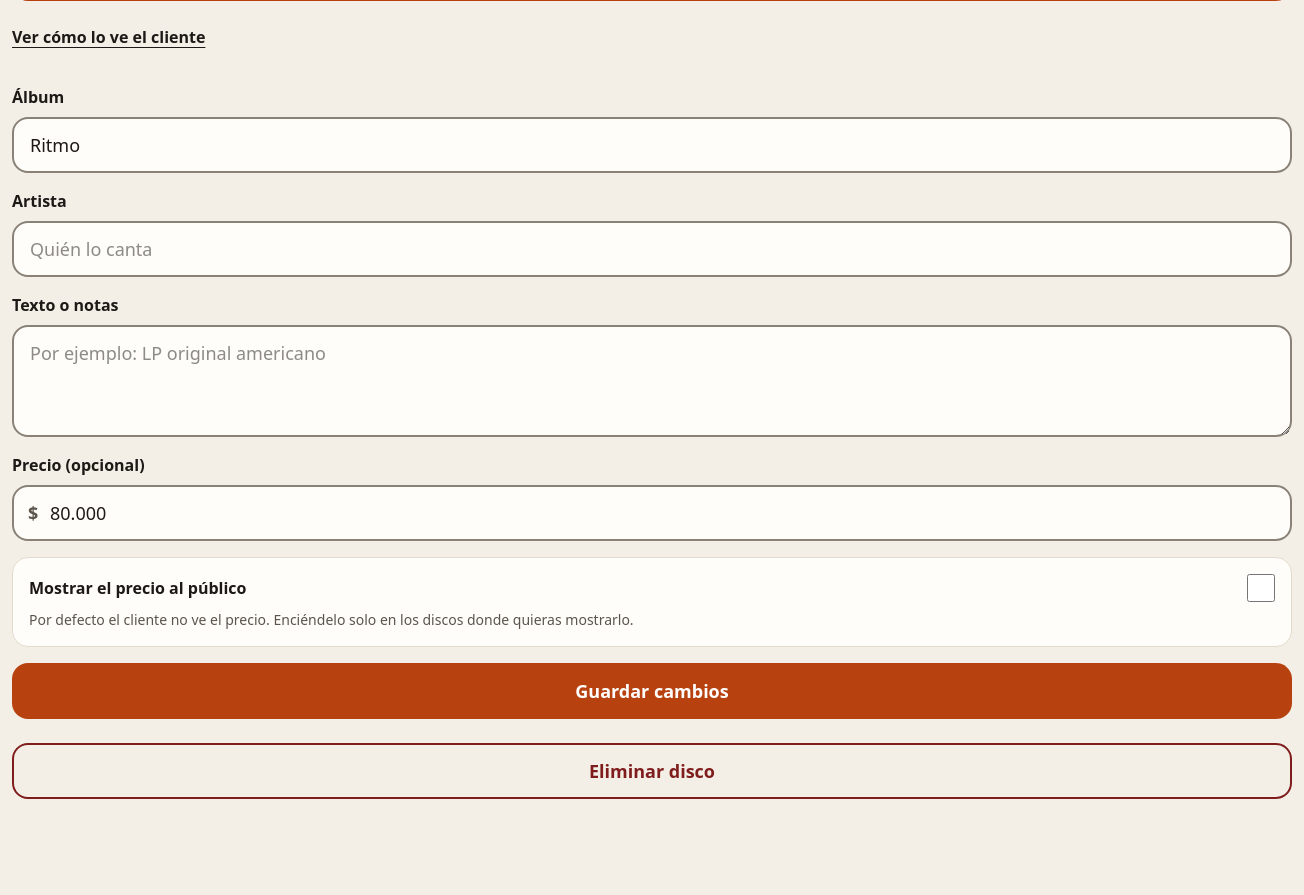
Test: RecordDetail › shows the saved price grouped and keeps grouping as it is edited
(page scrolled)
Replace the text in the field labelled "Precio (opcional)" with "1200000" at x=652, y=513, box [12, 485, 1292, 541]
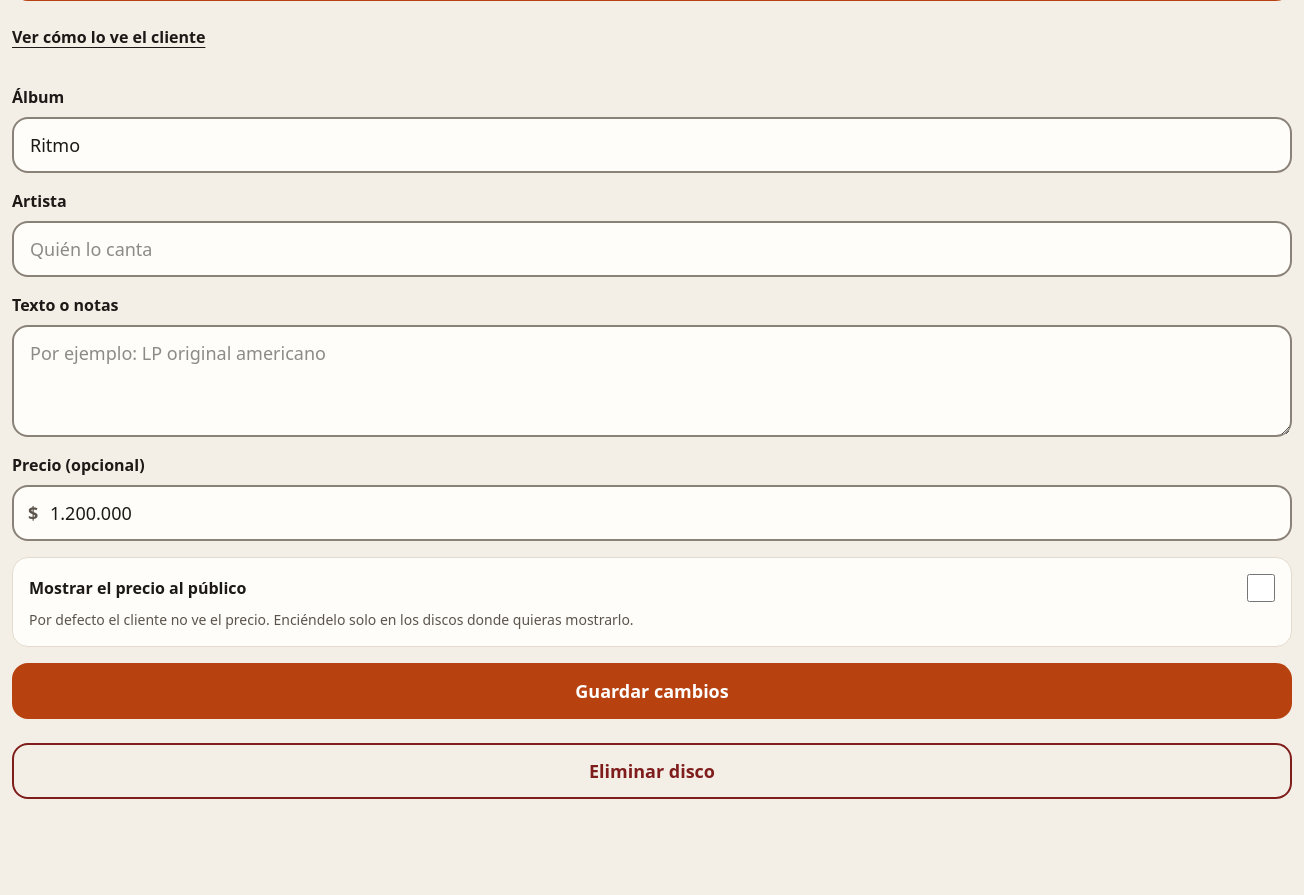
Now the field labelled "Precio (opcional)" holds "1.200.000", box [12, 485, 1292, 541]
